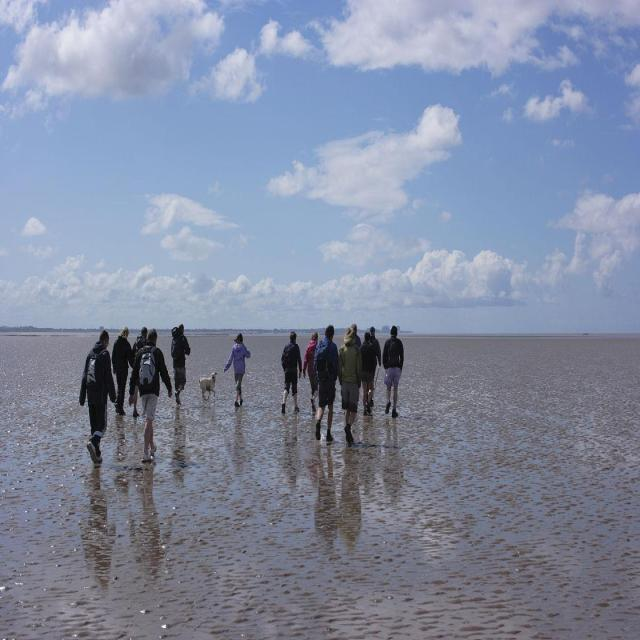non-fight: (131, 326, 172, 464), (78, 329, 114, 464), (338, 323, 367, 444), (311, 326, 340, 443), (380, 324, 406, 418), (223, 332, 250, 407), (280, 330, 302, 416)
